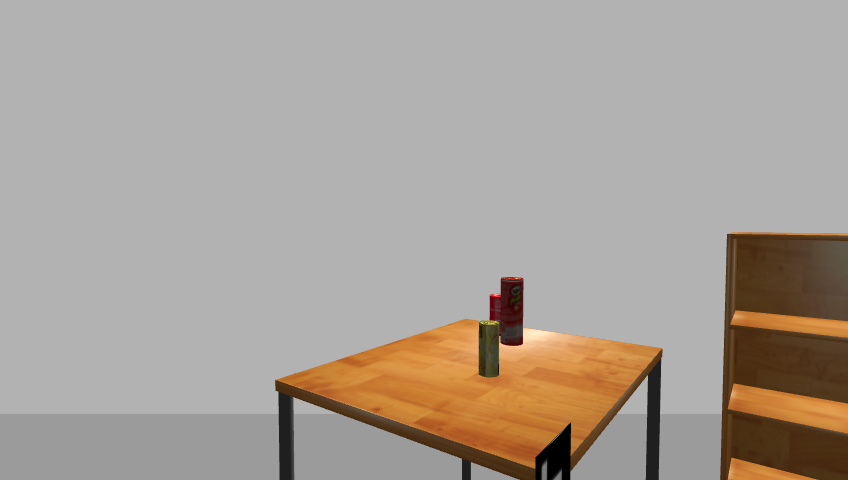aruco marker: (532, 423, 575, 480)
biscuits pack: (478, 321, 501, 378)
bookshelf: (717, 232, 848, 479)
coke can: (488, 294, 504, 344)
dinner table: (268, 320, 671, 480)
pringles can: (500, 276, 525, 347)
